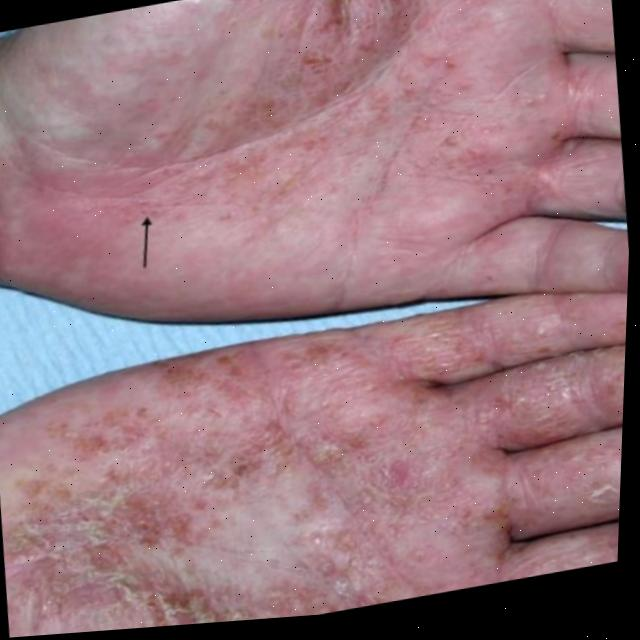Eczema: (0, 250, 629, 640), (191, 0, 502, 202)
